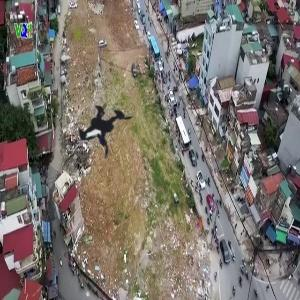drone: (46, 68, 157, 179)
